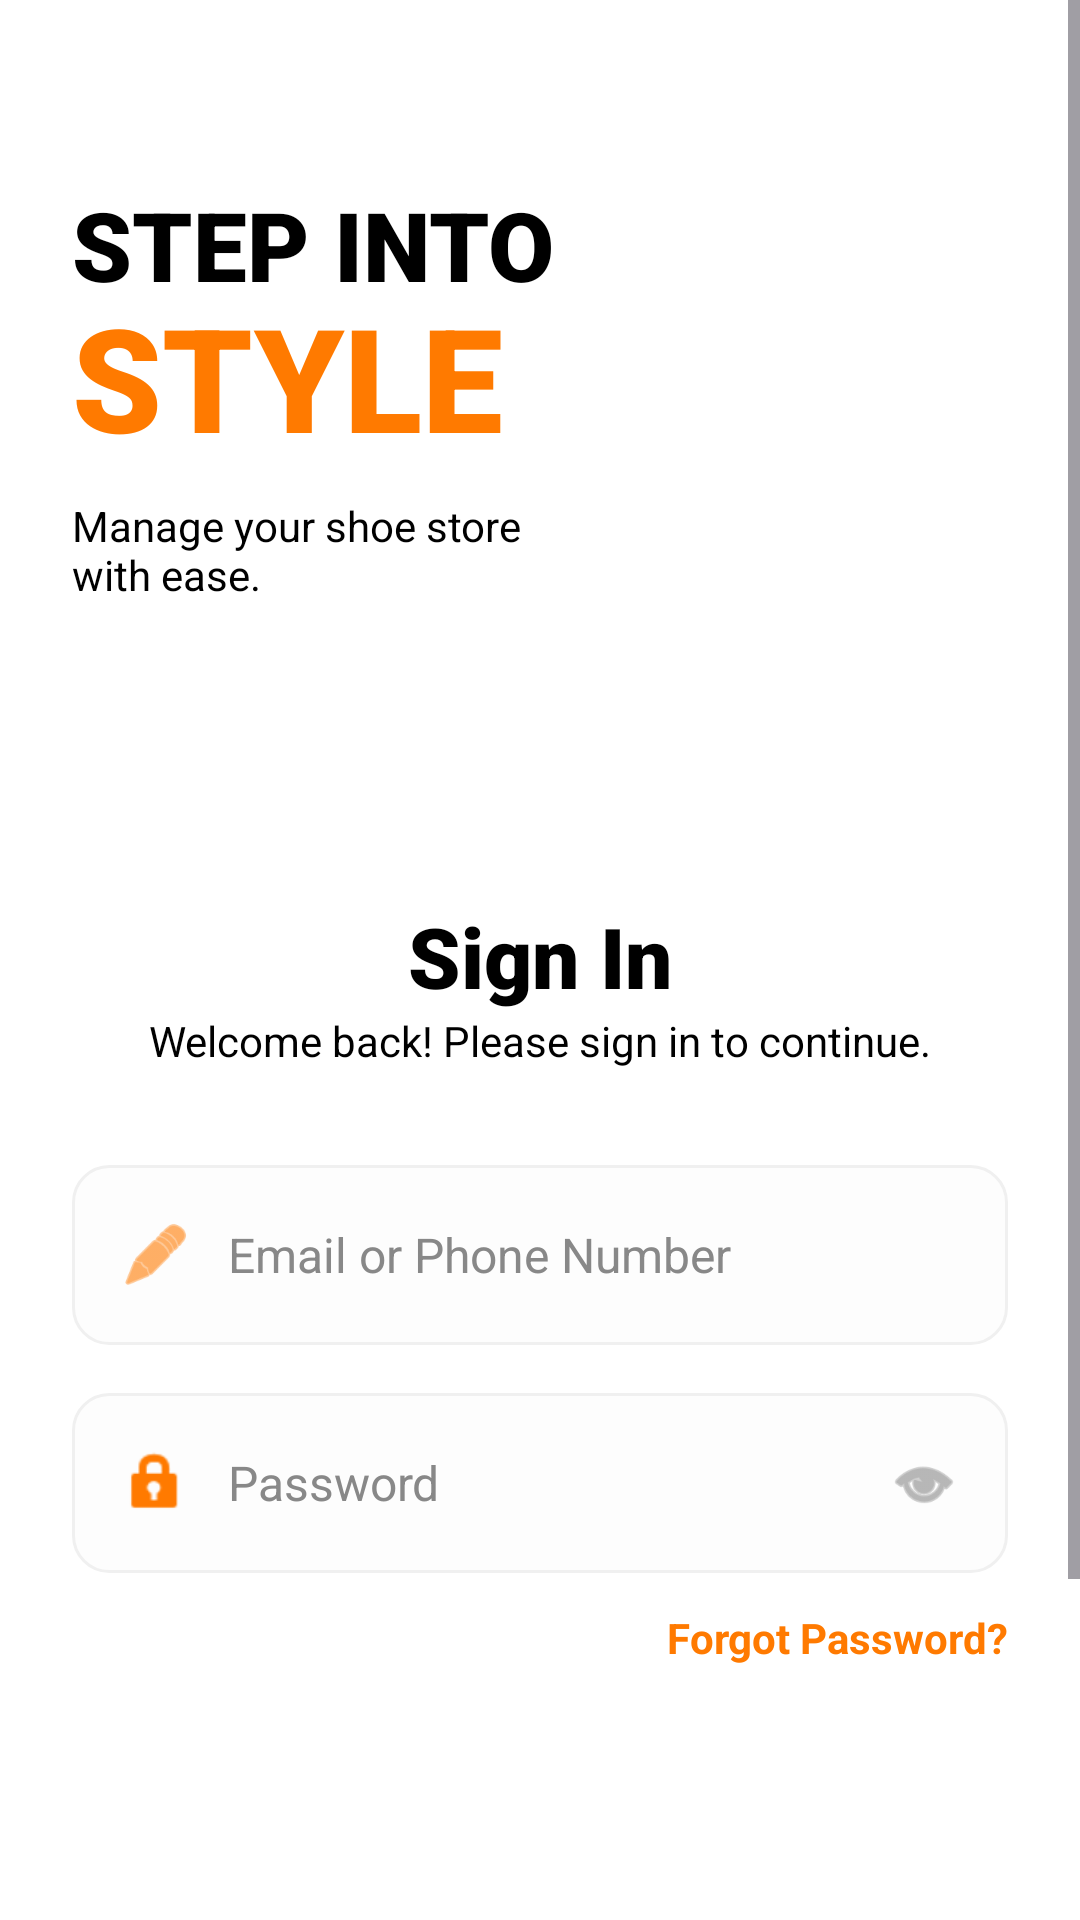

Icons on this 1080px x 1920px Android screen, each with the point to tap as (x=x, y=y):
edit: (x=155, y=1254)
lock idle: (x=154, y=1480)
